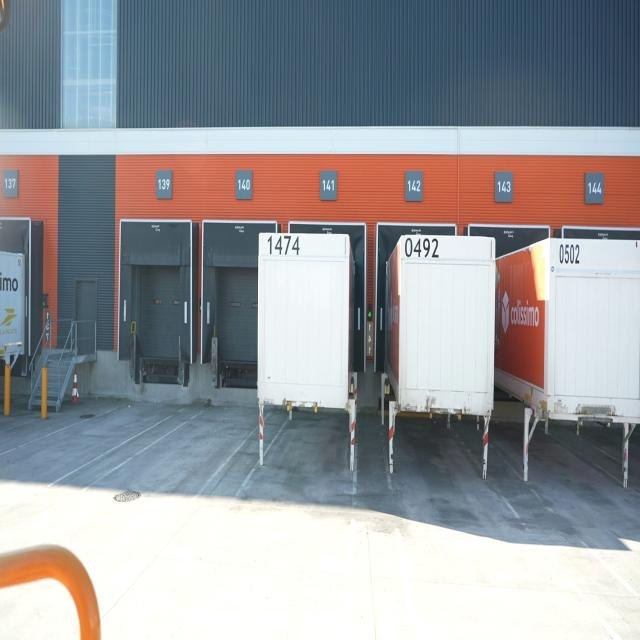Code: (264, 229, 305, 262), (402, 232, 440, 261), (555, 238, 584, 272)
